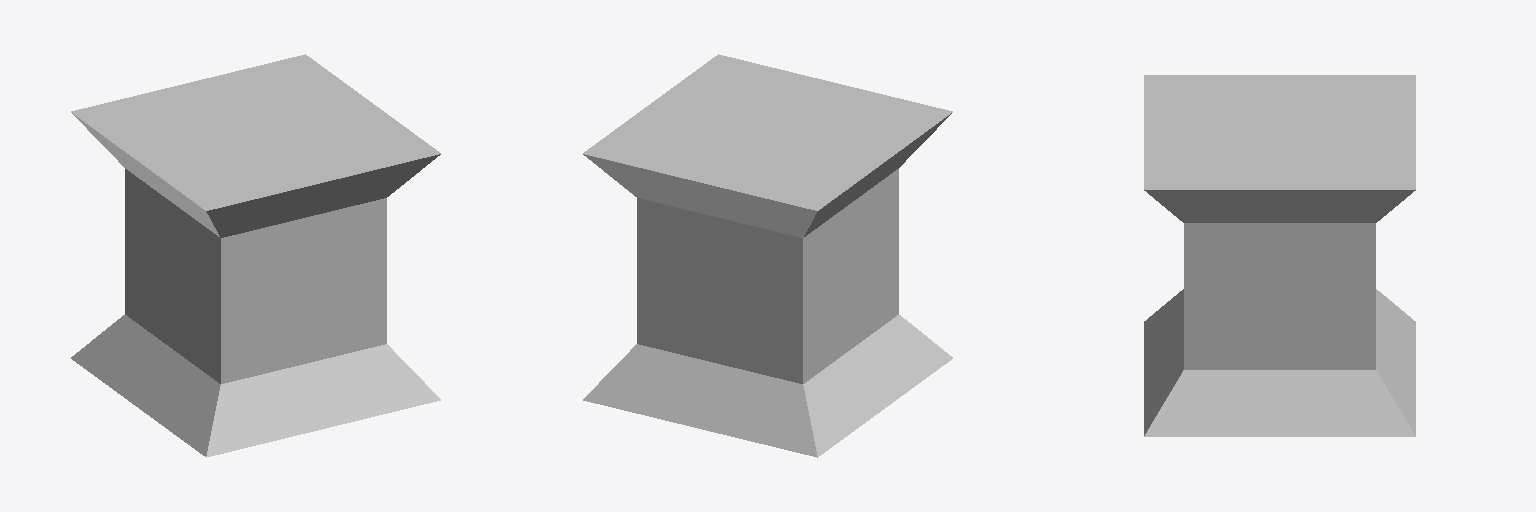
The model's file is Stand.obj.
3 renders of one model, left to right at view 1: azimuth 30°, elevation 25°; view 2: azimuth 150°, elevation 25°; view 3: azimuth 270°, elevation 25°, orthographic.
Visible parts, largest first — view 1: Cube_Cube.002; view 2: Cube_Cube.002; view 3: Cube_Cube.002.
Part boxes in pixels (left/top/right/bottom): Cube_Cube.002: left=71, top=54, right=440, bottom=457; Cube_Cube.002: left=583, top=54, right=952, bottom=457; Cube_Cube.002: left=1144, top=75, right=1415, bottom=436.
Bounding box in the file's own units: 2 × 2 × 2.